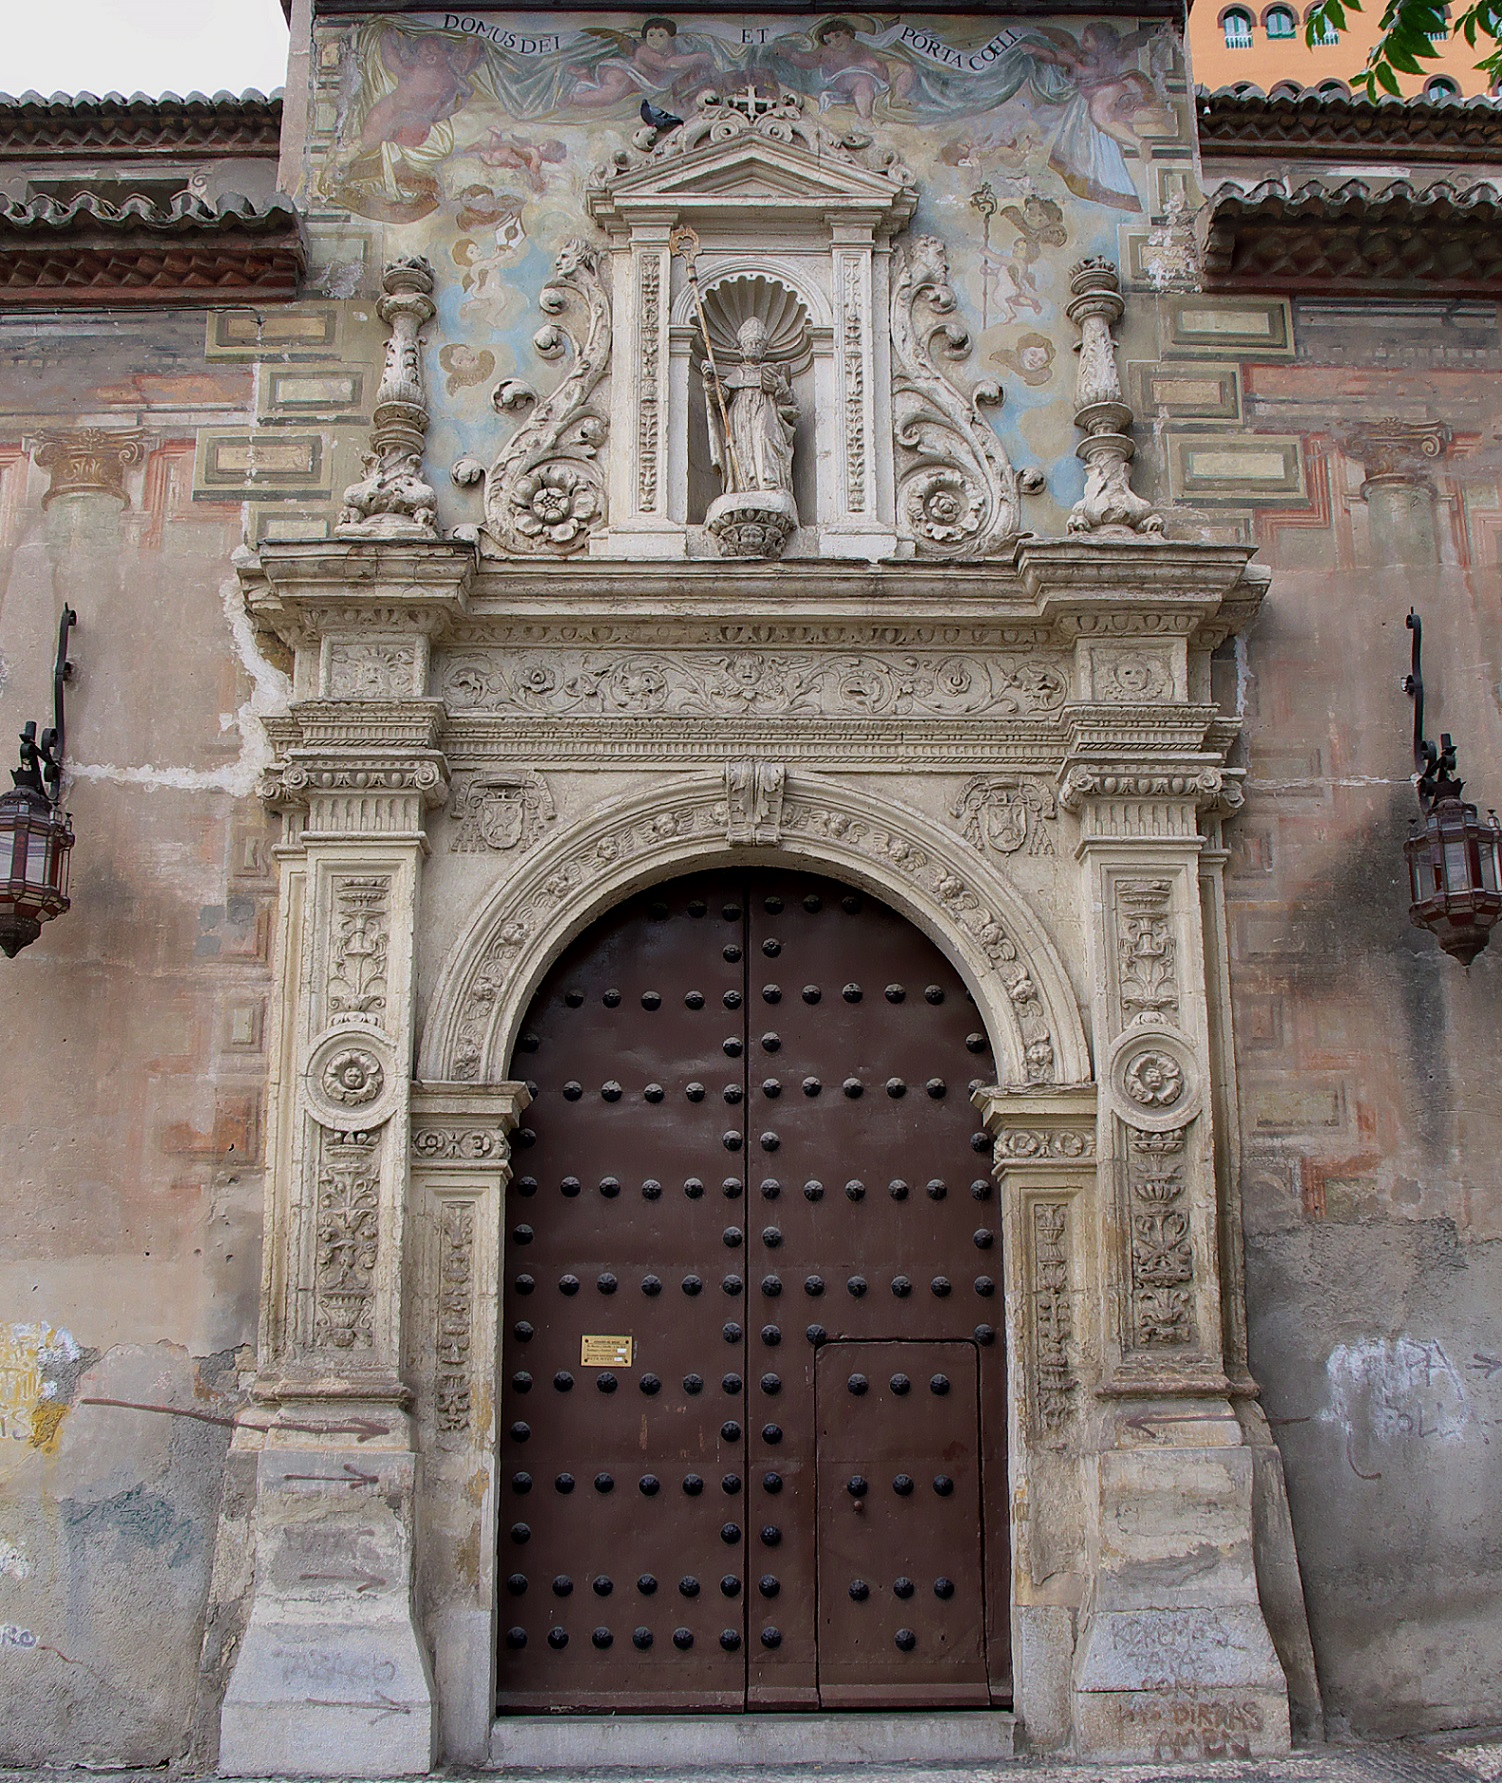arco-medio-punto: (474, 809, 1042, 1235)
fronton: (598, 122, 916, 226)
